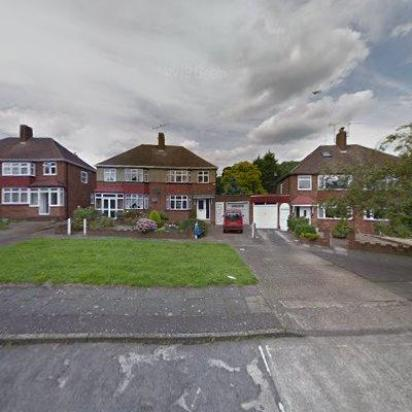stationary-car-offstreet: (222, 208, 244, 234)
